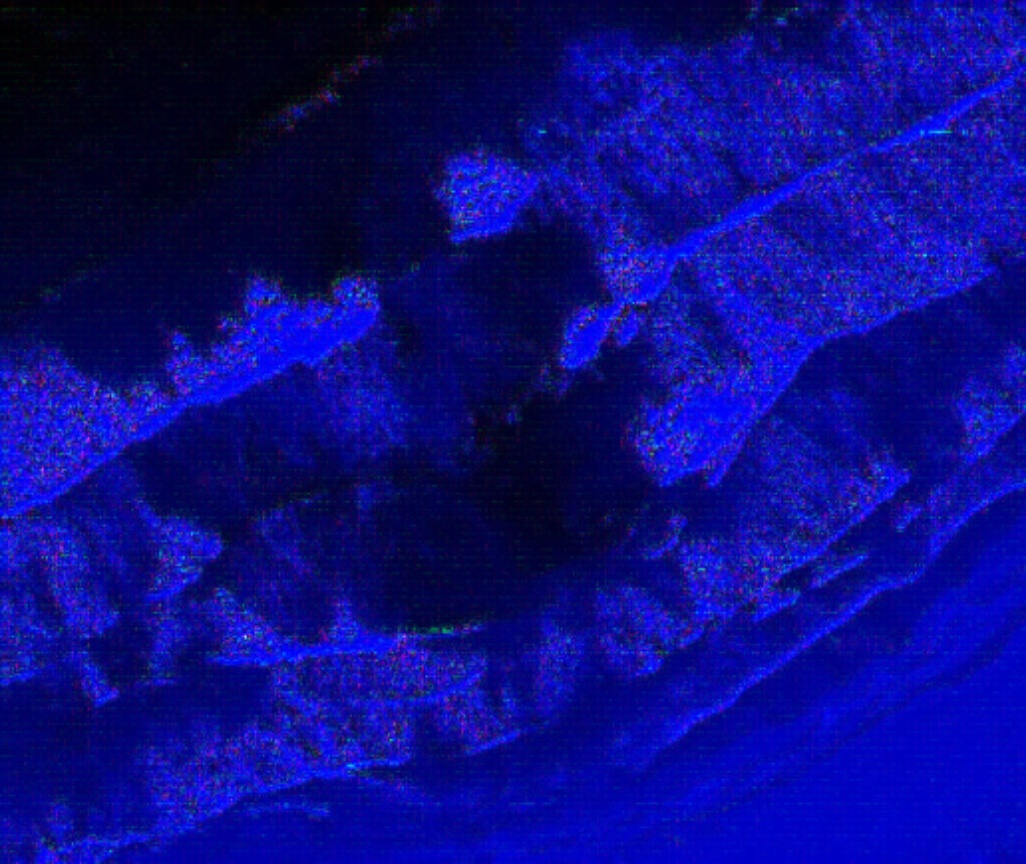rip_current: (249, 112, 723, 659)
